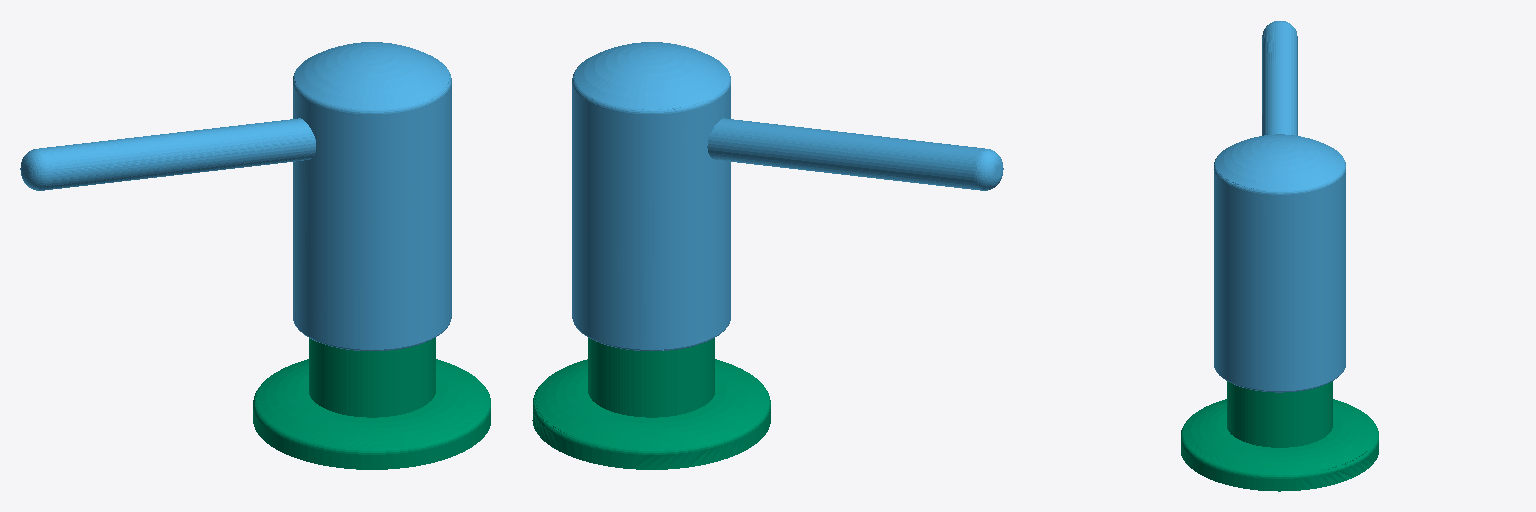
The robot description file, URDF, robot "partnet_adbea30c5cb5e4d94a0a22774477f1a9":
<?xml version="1.0" ?>
<robot name="partnet_adbea30c5cb5e4d94a0a22774477f1a9">
	<link name="base"/>
	<link name="link_0">
		<visual name="switch-4">
			<origin xyz="0.0016892865250213076 0 0.08870558150785875"/>
			<geometry>
				<mesh filename="textured_objs/original-8.obj"/>
			</geometry>
		</visual>
		<visual name="switch-4">
			<origin xyz="0.0016892865250213076 0 0.08870558150785875"/>
			<geometry>
				<mesh filename="textured_objs/original-6.obj"/>
			</geometry>
		</visual>
		<visual name="switch-4">
			<origin xyz="0.0016892865250213076 0 0.08870558150785875"/>
			<geometry>
				<mesh filename="textured_objs/original-7.obj"/>
			</geometry>
		</visual>
		<visual name="switch-4">
			<origin xyz="0.0016892865250213076 0 0.08870558150785875"/>
			<geometry>
				<mesh filename="textured_objs/original-5.obj"/>
			</geometry>
		</visual>
		<collision>
			<origin xyz="0.0016892865250213076 0 0.08870558150785875"/>
			<geometry>
				<mesh filename="textured_objs/original-8.obj"/>
			</geometry>
		</collision>
		<collision>
			<origin xyz="0.0016892865250213076 0 0.08870558150785875"/>
			<geometry>
				<mesh filename="textured_objs/original-6.obj"/>
			</geometry>
		</collision>
		<collision>
			<origin xyz="0.0016892865250213076 0 0.08870558150785875"/>
			<geometry>
				<mesh filename="textured_objs/original-7.obj"/>
			</geometry>
		</collision>
		<collision>
			<origin xyz="0.0016892865250213076 0 0.08870558150785875"/>
			<geometry>
				<mesh filename="textured_objs/original-5.obj"/>
			</geometry>
		</collision>
	</link>
	<joint name="joint_0" type="continuous">
		<origin xyz="-0.0016892865250213076 0 -0.08870558150785875"/>
		<axis xyz="0 1 0"/>
		<child link="link_0"/>
		<parent link="link_1"/>
	</joint>
	<link name="link_1">
		<visual name="surface_base-6">
			<origin xyz="0 0 0"/>
			<geometry>
				<mesh filename="textured_objs/original-11.obj"/>
			</geometry>
		</visual>
		<visual name="surface_base-6">
			<origin xyz="0 0 0"/>
			<geometry>
				<mesh filename="textured_objs/original-13.obj"/>
			</geometry>
		</visual>
		<visual name="surface_base-6">
			<origin xyz="0 0 0"/>
			<geometry>
				<mesh filename="textured_objs/original-15.obj"/>
			</geometry>
		</visual>
		<visual name="vertical_support-7">
			<origin xyz="0 0 0"/>
			<geometry>
				<mesh filename="textured_objs/original-16.obj"/>
			</geometry>
		</visual>
		<visual name="vertical_support-7">
			<origin xyz="0 0 0"/>
			<geometry>
				<mesh filename="textured_objs/original-14.obj"/>
			</geometry>
		</visual>
		<collision>
			<origin xyz="0 0 0"/>
			<geometry>
				<mesh filename="textured_objs/original-11.obj"/>
			</geometry>
		</collision>
		<collision>
			<origin xyz="0 0 0"/>
			<geometry>
				<mesh filename="textured_objs/original-13.obj"/>
			</geometry>
		</collision>
		<collision>
			<origin xyz="0 0 0"/>
			<geometry>
				<mesh filename="textured_objs/original-15.obj"/>
			</geometry>
		</collision>
		<collision>
			<origin xyz="0 0 0"/>
			<geometry>
				<mesh filename="textured_objs/original-16.obj"/>
			</geometry>
		</collision>
		<collision>
			<origin xyz="0 0 0"/>
			<geometry>
				<mesh filename="textured_objs/original-14.obj"/>
			</geometry>
		</collision>
	</link>
	<joint name="joint_1" type="fixed">
		<origin rpy="1.570796326794897 0 -1.570796326794897" xyz="0 0 0"/>
		<child link="link_1"/>
		<parent link="base"/>
	</joint>
</robot>

--- Render facts (derived) ---
3 views of the same robot in one strip: view 1: azimuth 30°, elevation 25°; view 2: azimuth 150°, elevation 25°; view 3: azimuth 270°, elevation 25° (orthographic).
Model partnet_adbea30c5cb5e4d94a0a22774477f1a9 with 3 links and 2 joints (1 continuous, 1 fixed), rooted at base, posed all joints at 0.
Visible links, largest first — view 1: link_0, link_1; view 2: link_0, link_1; view 3: link_0, link_1.
Link boxes in pixels (<box>): link_0: <box>20,42,451,350</box>; link_1: <box>253,338,490,469</box>; link_0: <box>572,42,1003,350</box>; link_1: <box>532,338,770,469</box>; link_0: <box>1214,21,1345,392</box>; link_1: <box>1181,381,1378,491</box>.
Bounding box of the posed robot: 1.3 × 0.595 × 1.01 m (x, y, z).
9 mesh visuals loaded from 9 distinct referenced files (9 OBJ).
